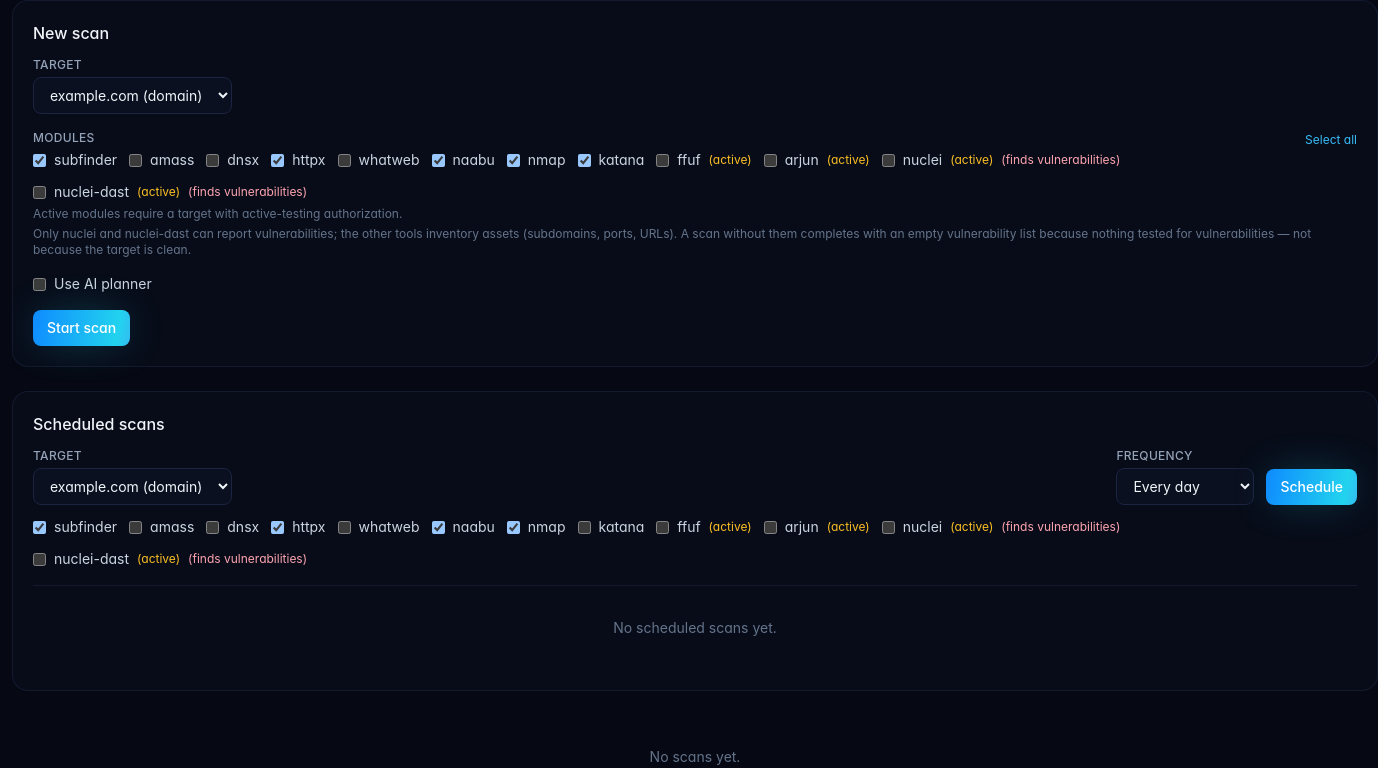
it: ScansTab tool selection › surfaces a server authorization rejection of active tools unchanged
Check: the checkbox labelled "subfinder" below "New scan" is shown, box [33, 154, 46, 166]
Click the button "Select all" at x=1331, y=140, box [1305, 132, 1357, 148]
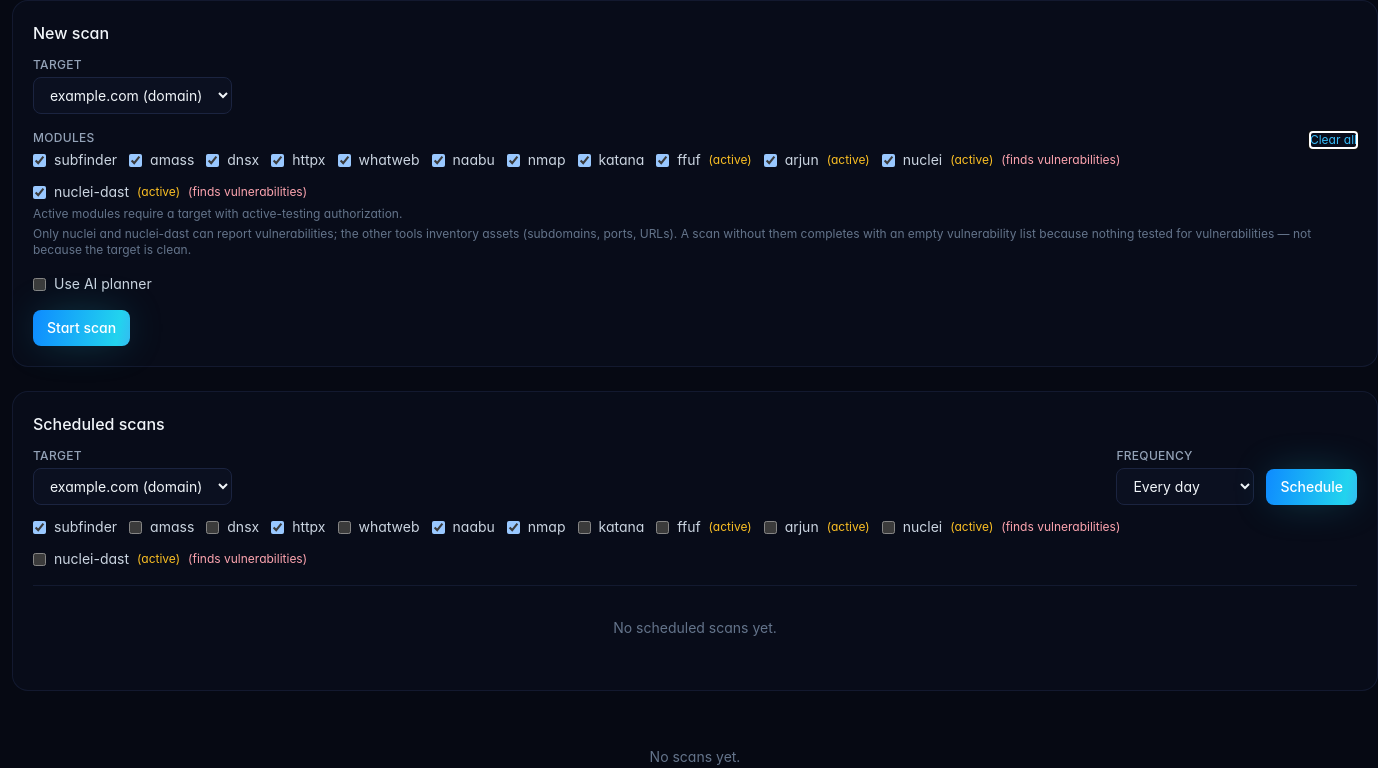
Click the button "Start scan" at x=82, y=328, box [33, 310, 130, 346]
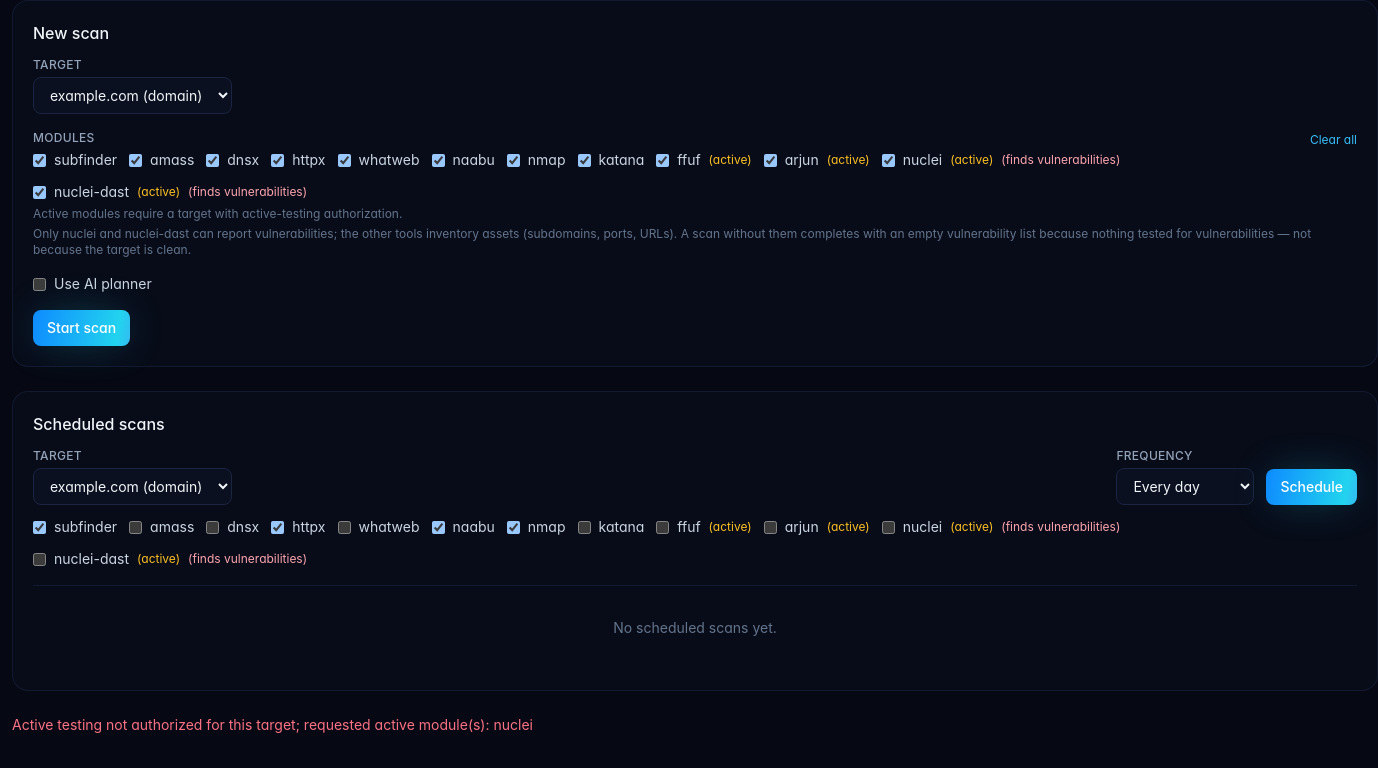
Check: the text "Active testing not authorized for this target" is shown, box [12, 716, 533, 733]
